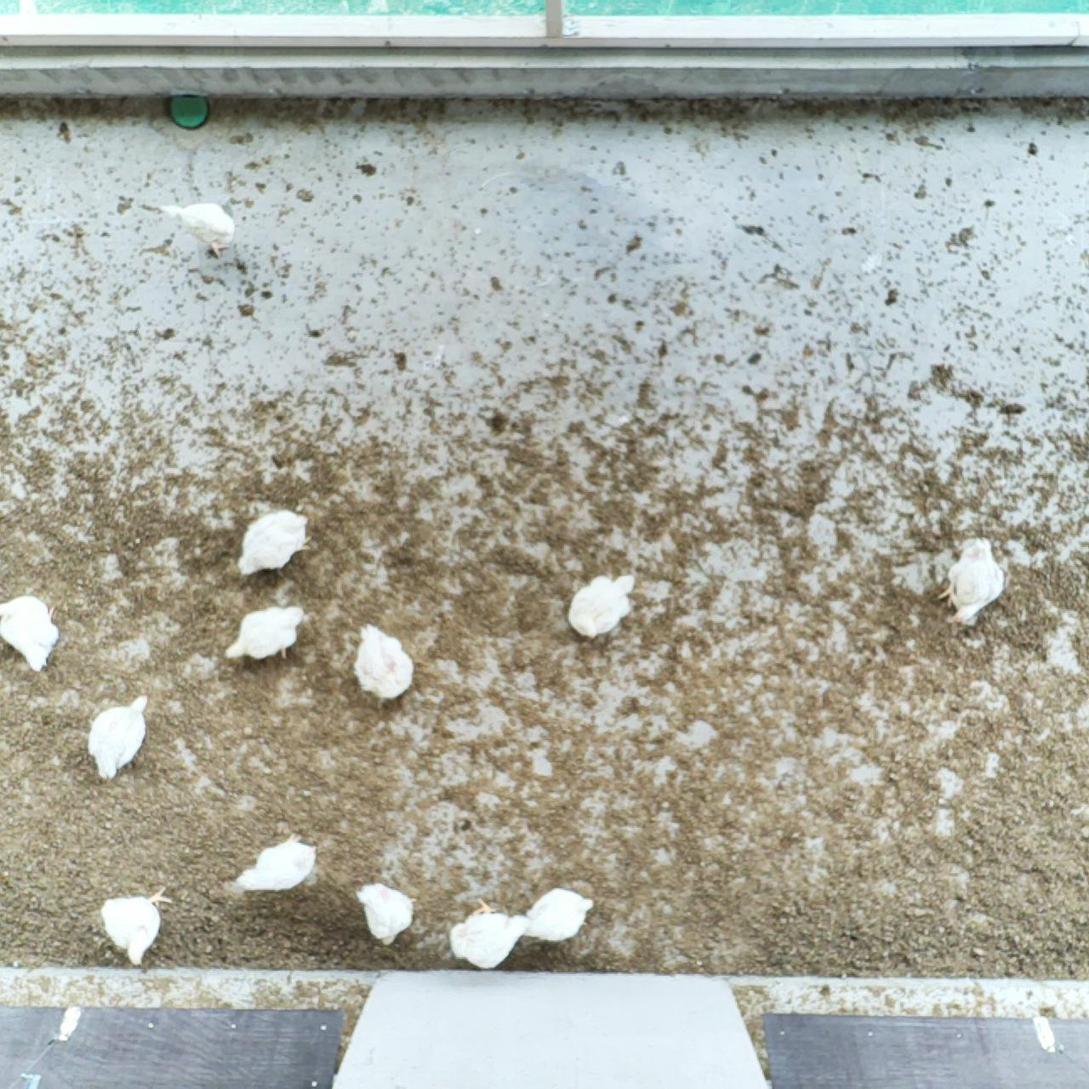chicken: (933, 535, 1011, 634), (95, 882, 177, 970), (83, 692, 158, 787), (446, 893, 535, 972), (234, 504, 317, 581), (220, 598, 310, 669), (353, 614, 418, 712), (233, 828, 320, 898), (0, 588, 66, 679), (563, 570, 641, 645), (155, 197, 241, 265), (351, 875, 418, 955), (523, 884, 597, 948)
